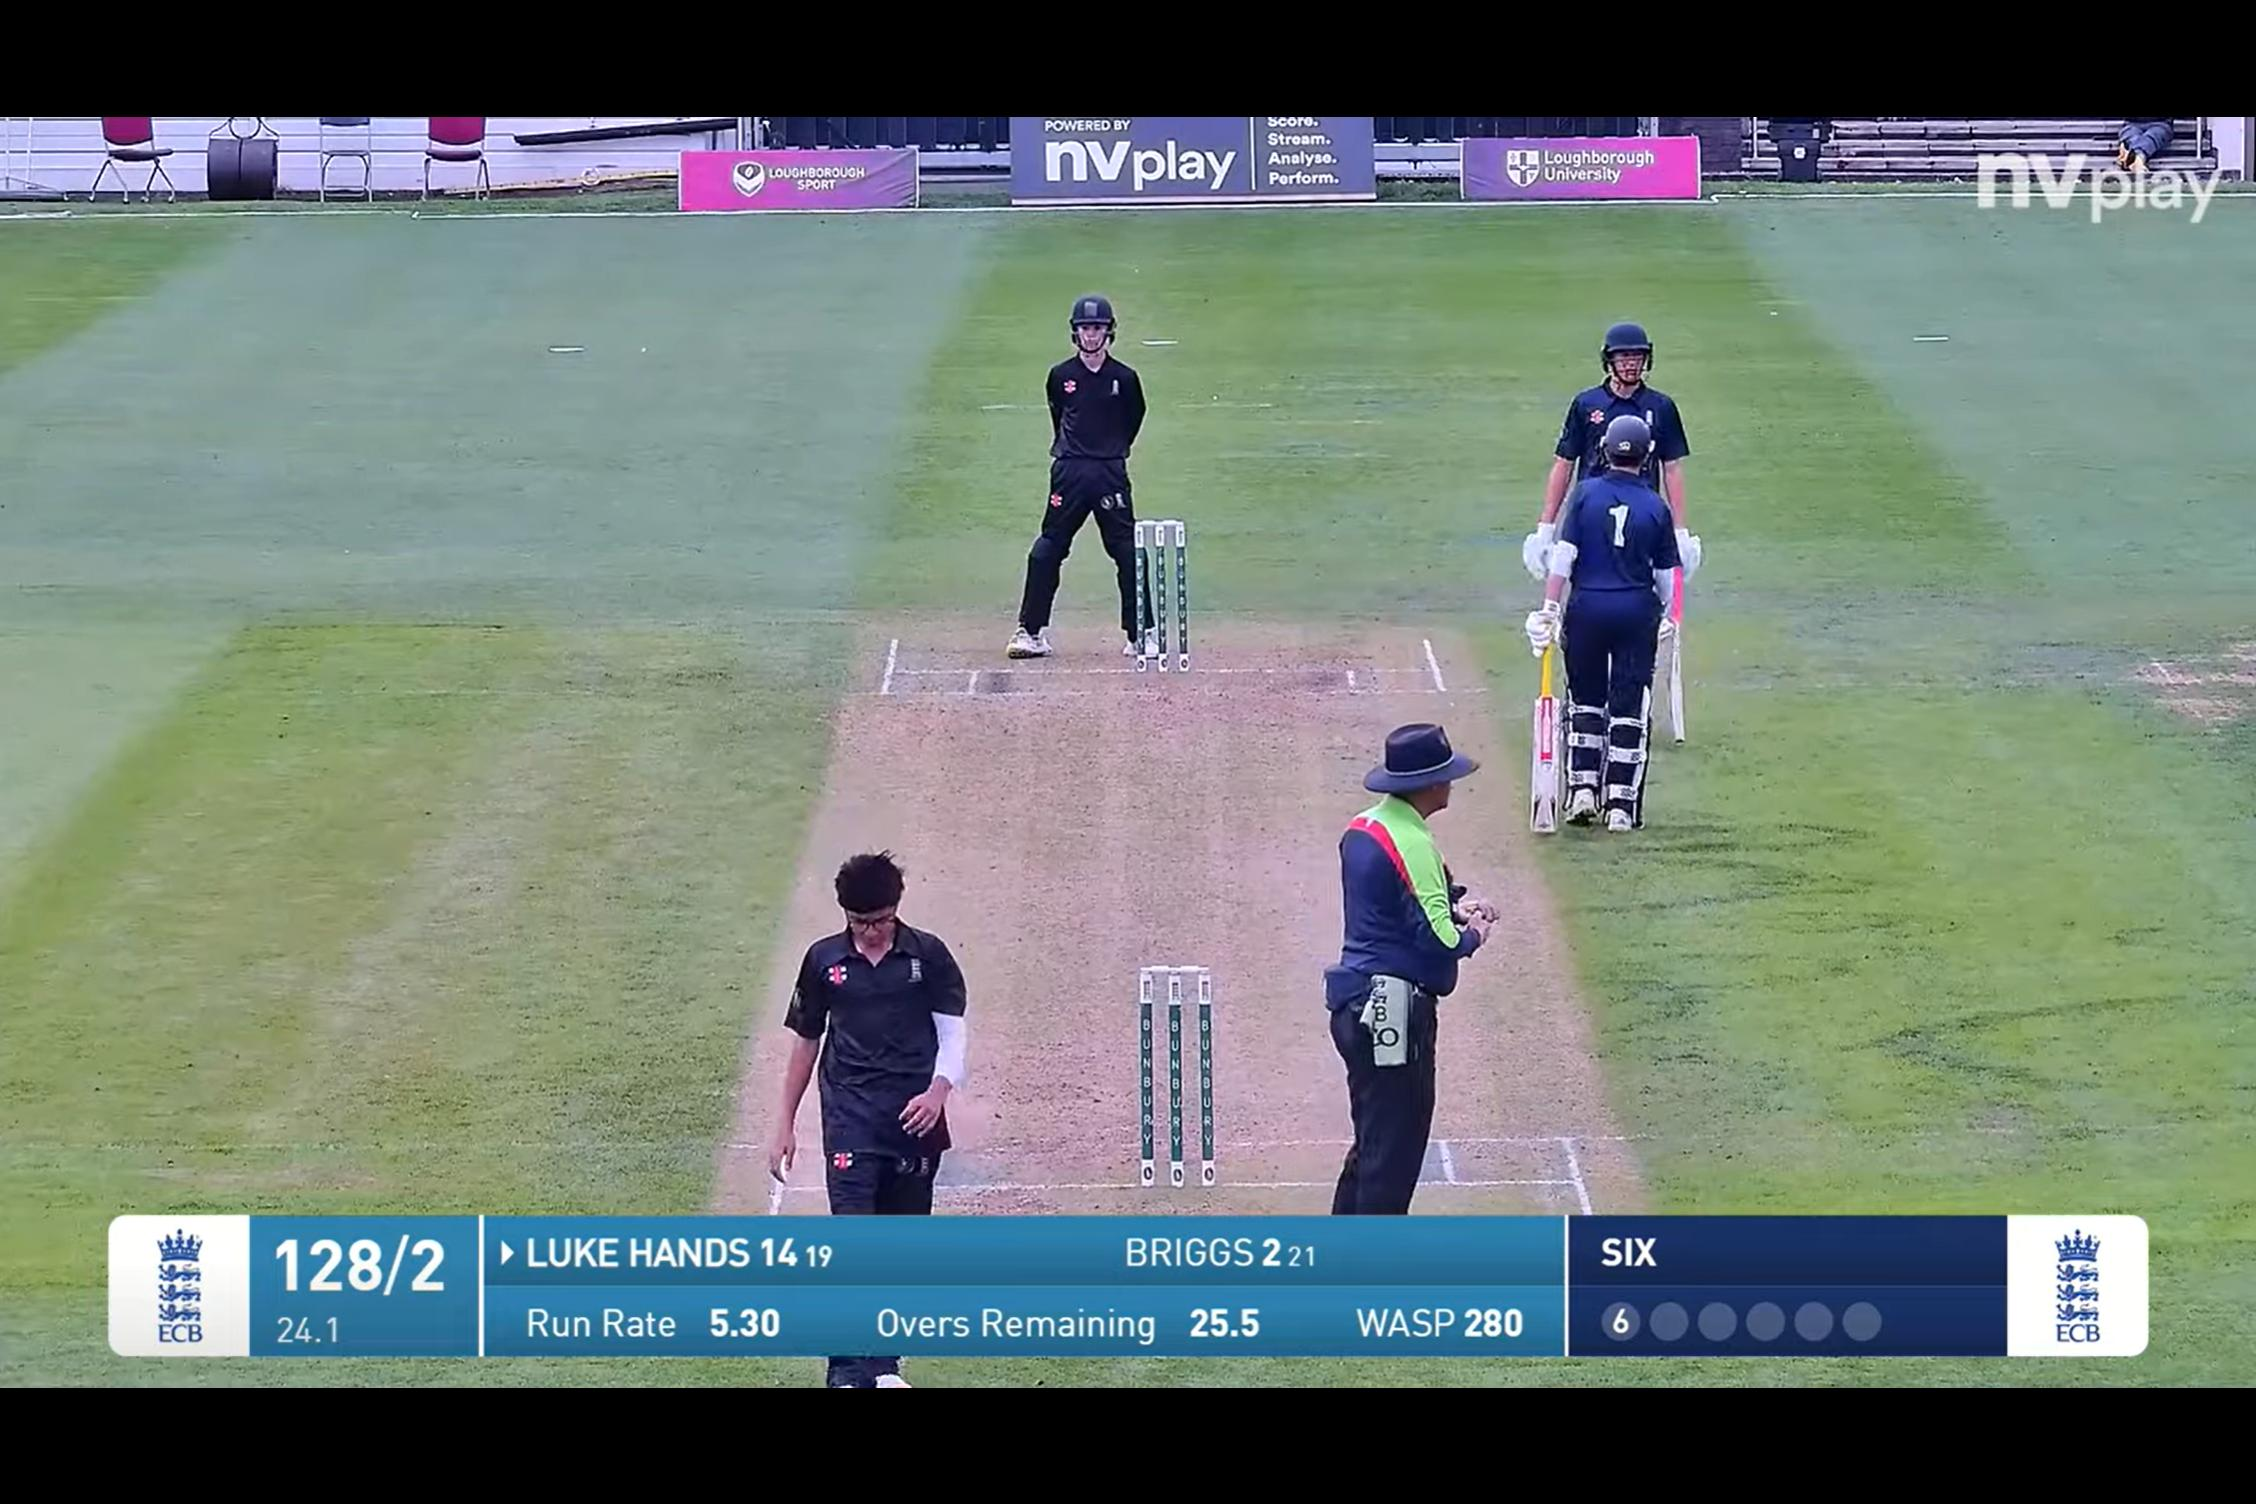bowler walking back: (745, 828, 1021, 1209)
non striker: (1533, 416, 1700, 853)
stumps: (1106, 928, 1252, 1193)
umpire: (1336, 692, 1494, 1209)
wicket keeper: (1000, 270, 1130, 656)
